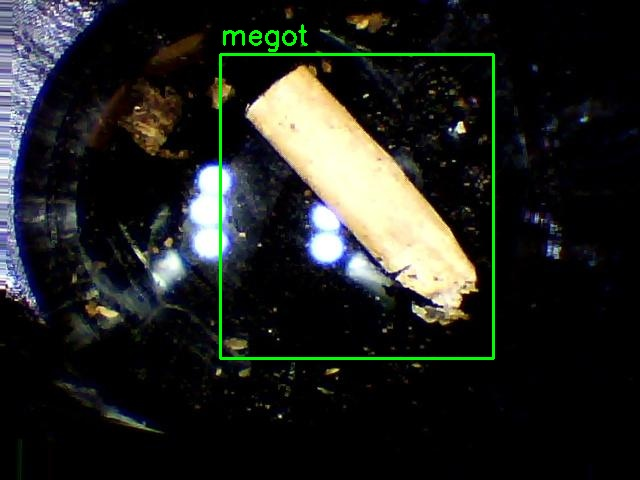megot: (220, 54, 493, 358)
